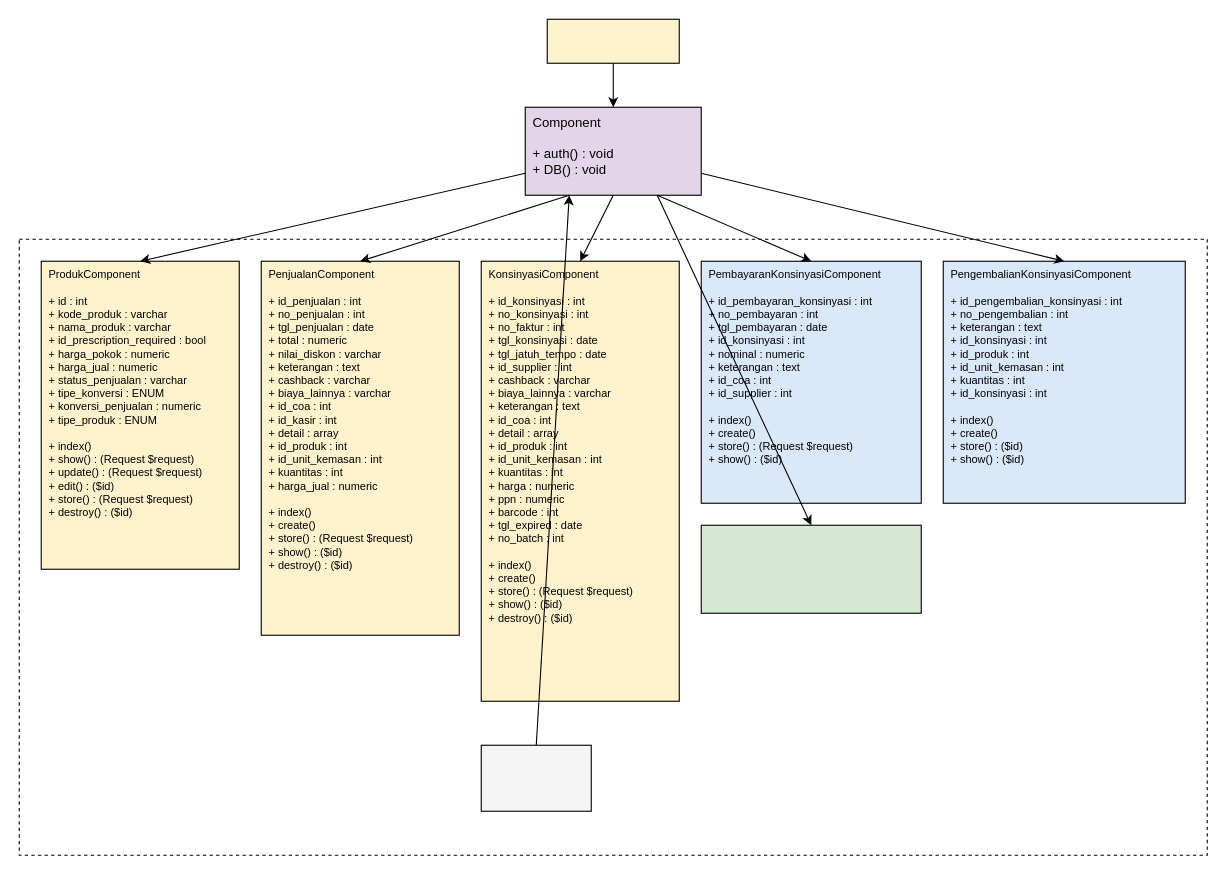
The diagram is 1227 pixels wide and 875 high, and some of its shapes have lost their labels. The centre of each missing label's shape, as x and y in pixels:
"Database" belongs at (612,40).
"LaporanKartuStokComponent + index() + show(Request $request)" belongs at (810,568).
"Routes + web()" belongs at (535,777).
